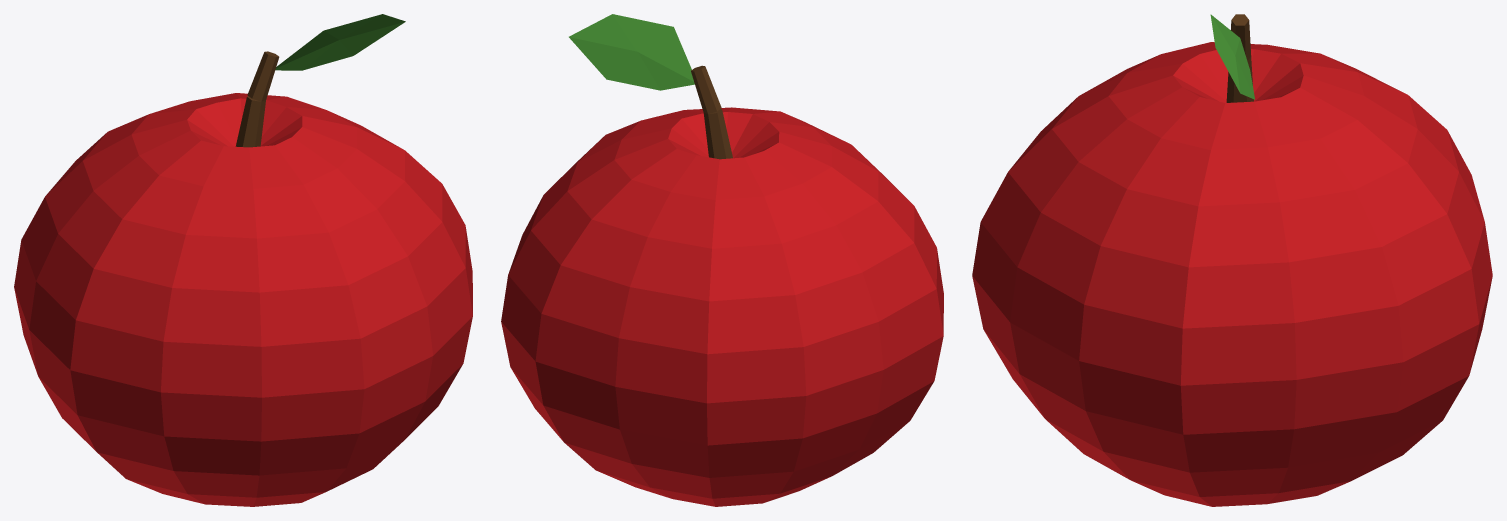
The model's file is Apple.obj.
3 views of the same model, side by side, from view 1: azimuth 30°, elevation 25°; view 2: azimuth 150°, elevation 25°; view 3: azimuth 270°, elevation 25° (orthographic). The views are drawn at different scales.
Parts seen in each view (by area): view 1: Apple; view 2: Apple; view 3: Apple.
Part boxes in pixels (x1,y1,x2,y2): Apple: [14, 14, 472, 506]; Apple: [501, 14, 943, 506]; Apple: [972, 14, 1492, 506].
Size of the model in its own units: 1.05 by 1.1 by 1.05.
